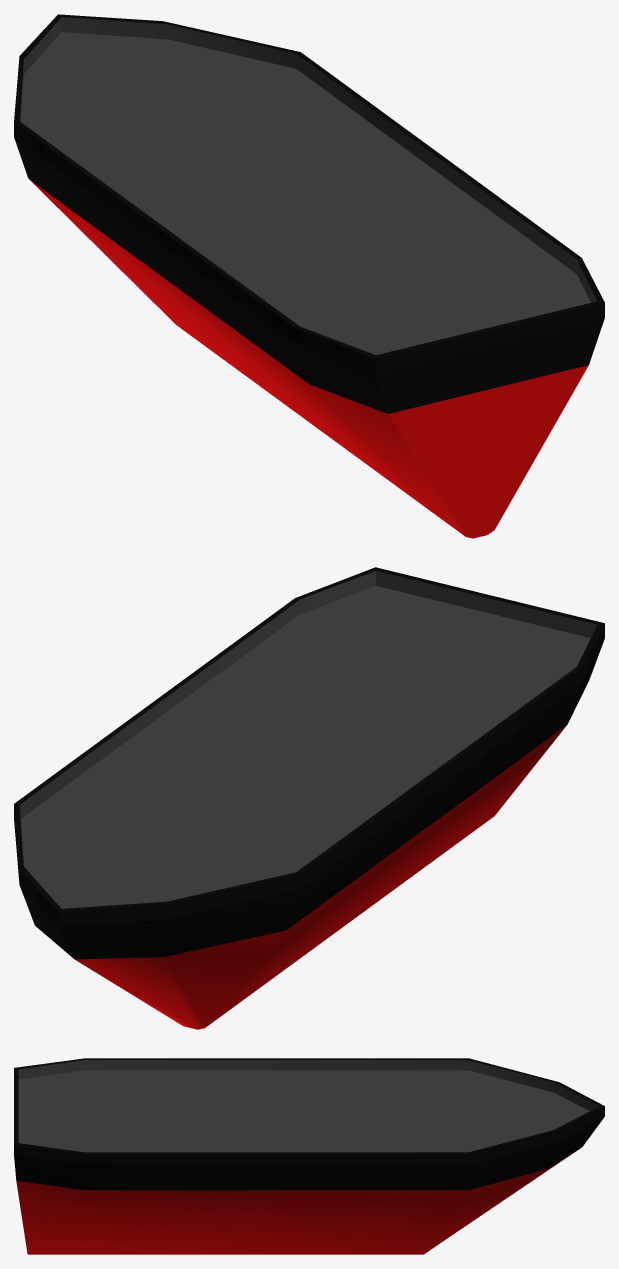
File: Ship.glb
The picture shows the model from 3 angles, top to bottom: view 1: azimuth 30°, elevation 25°; view 2: azimuth 150°, elevation 25°; view 3: azimuth 270°, elevation 25°; orthographic projection. The views are drawn at different scales.
Visible parts, largest first — view 1: Hull-col; view 2: Hull-col; view 3: Hull-col.
Boxes of the visible parts, <box> form: Hull-col: <box>14,14,604,538</box>; Hull-col: <box>14,567,604,1029</box>; Hull-col: <box>14,1058,604,1254</box>.
Bounding box in the file's own units: 2 × 1.42 × 5.22.
Materials: 1 (1 with a texture image).
